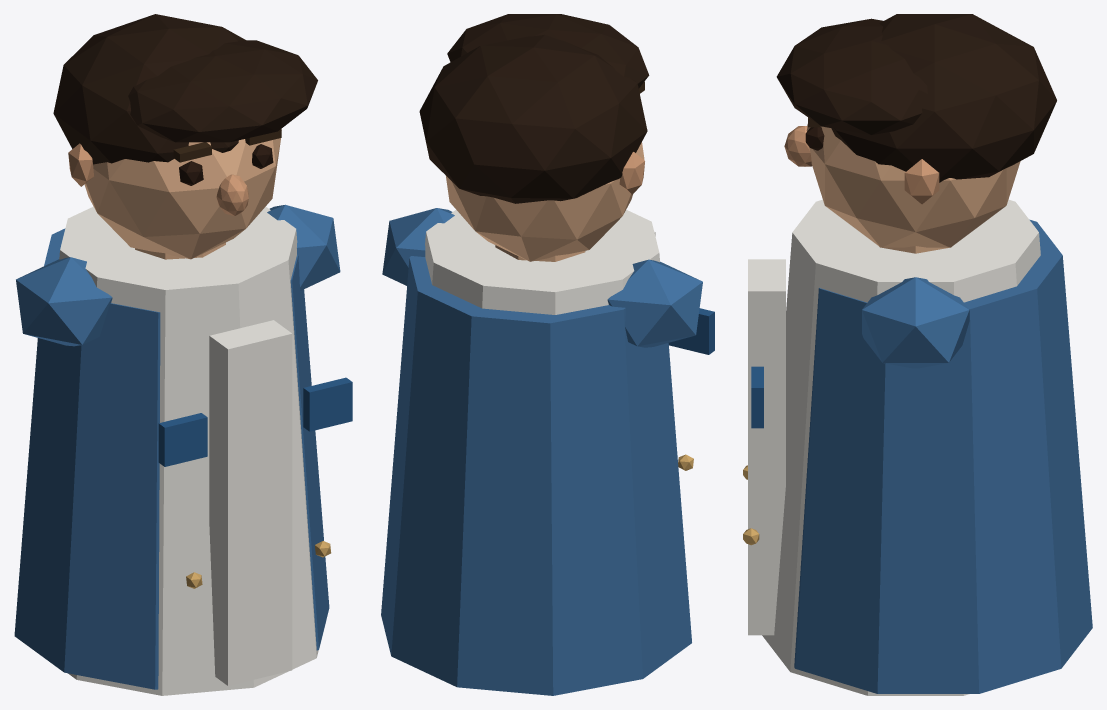
The model's file is insan_e2s_govde.glb.
3 views of the same model, side by side, from view 1: azimuth 30°, elevation 25°; view 2: azimuth 150°, elevation 25°; view 3: azimuth 270°, elevation 25° (orthographic). The views are drawn at different scales.
Visible parts, largest first — view 1: Cone; view 2: Cone; view 3: Cone.
Boxes of the visible parts, <box> form: Cone: <box>14,14,352,695</box>; Cone: <box>381,14,714,695</box>; Cone: <box>743,14,1092,695</box>.
Size of the model in its own units: 0.1158 by 0.2126 by 0.1106.
